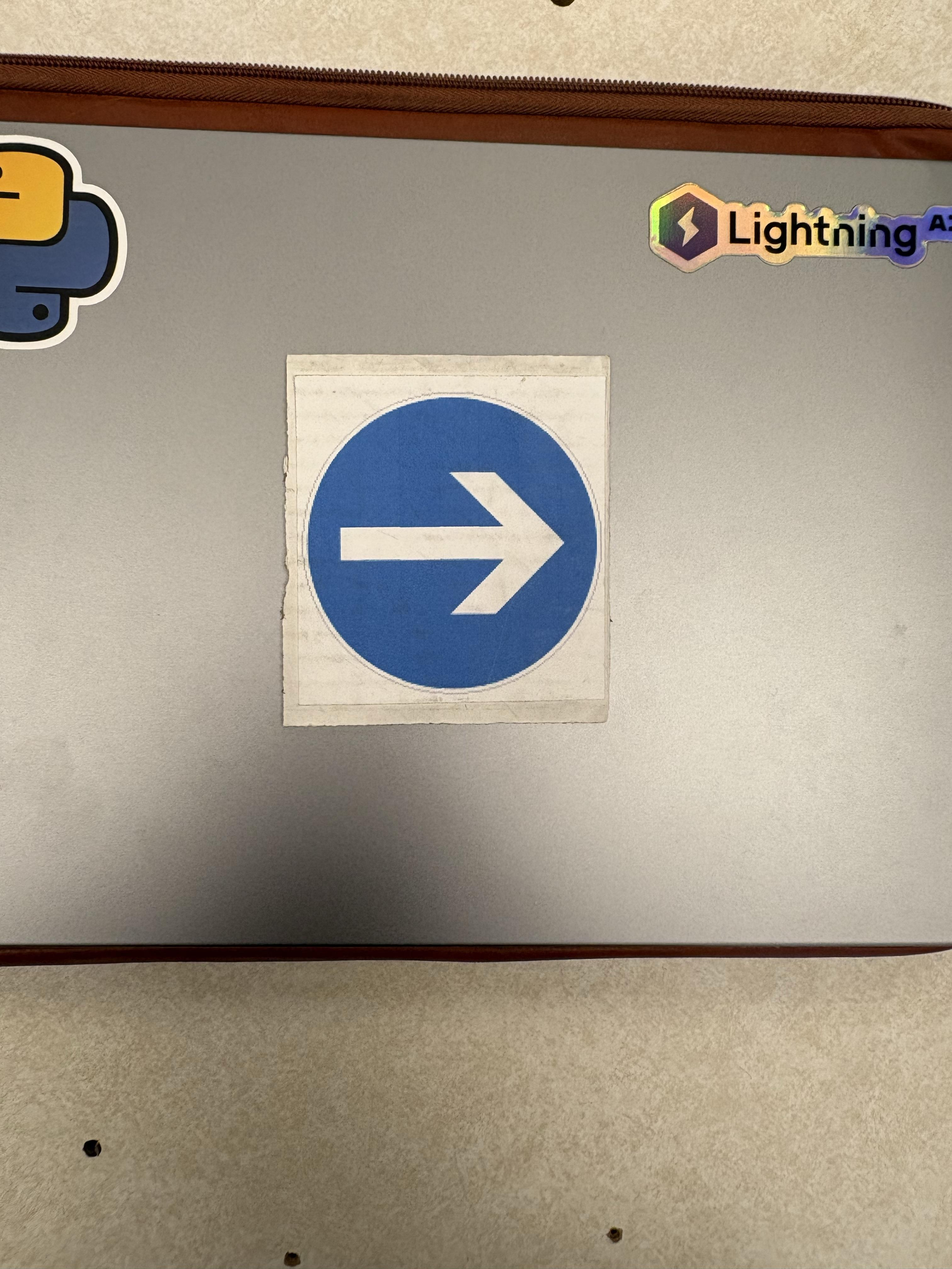Proceed Right: (215, 470, 459, 963)
